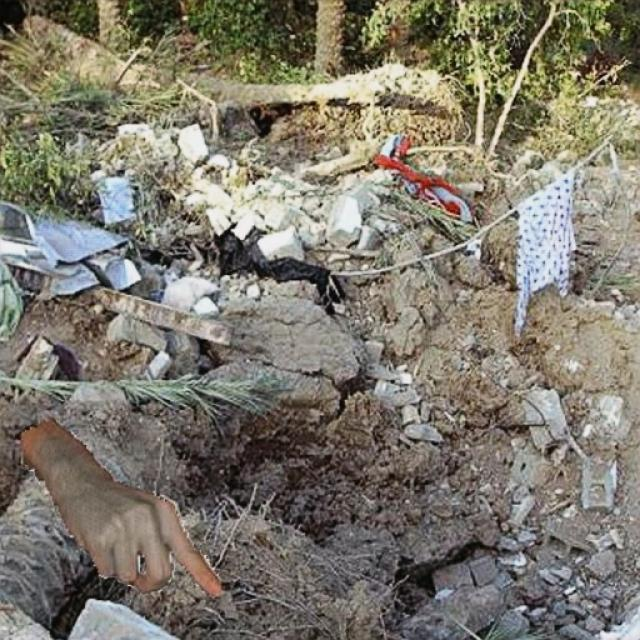Person in Rubble: (21, 418, 220, 598)
